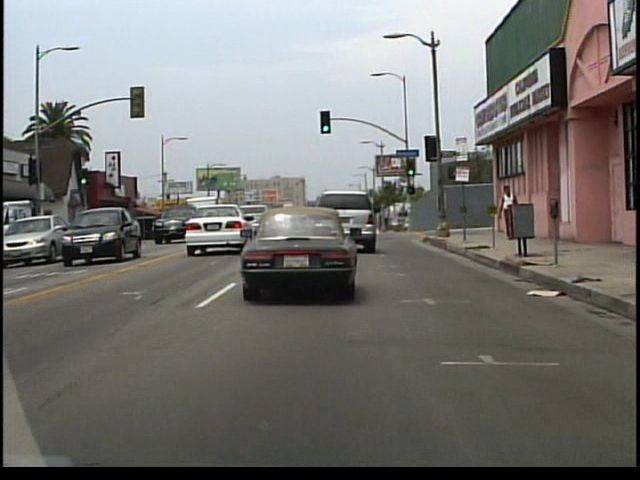person: (496, 181, 523, 242)
